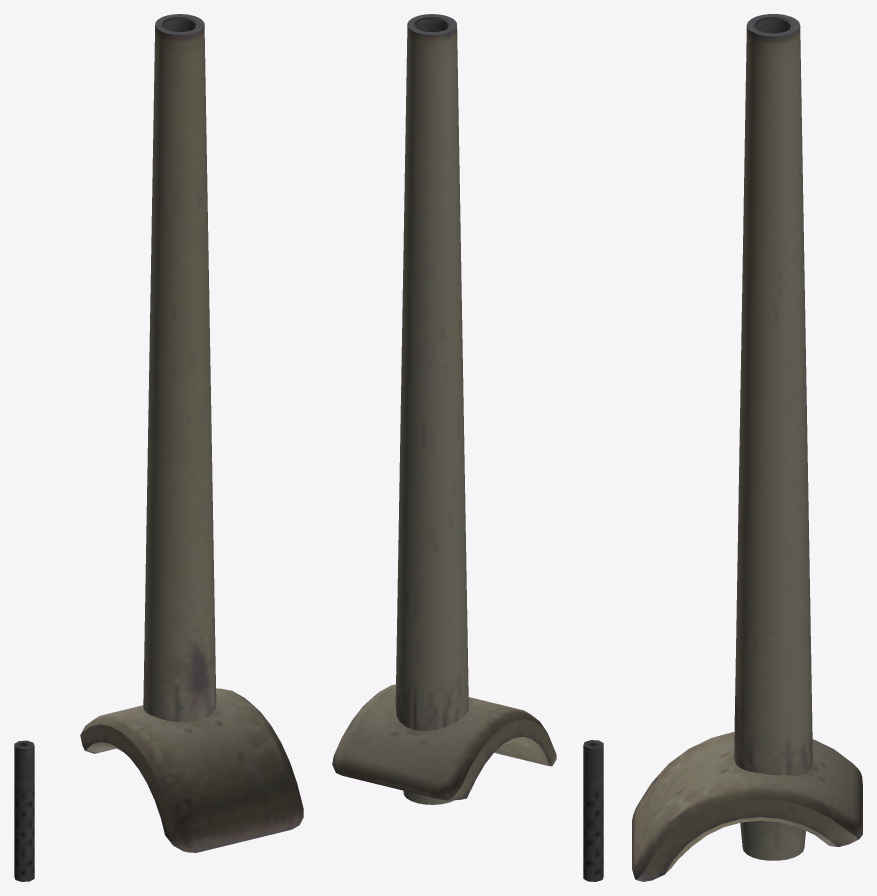
The model's file is Gun_01.glb.
3 renders of one model, left to right at view 1: azimuth 30°, elevation 25°; view 2: azimuth 150°, elevation 25°; view 3: azimuth 270°, elevation 25°, orthographic. The views are drawn at different scales.
Parts seen in each view (by area): view 1: set_0_group_0; view 2: set_0_group_0; view 3: set_0_group_0.
Part boxes in pixels (x1,y1,x2,y2): set_0_group_0: [14, 14, 303, 881]; set_0_group_0: [332, 14, 603, 881]; set_0_group_0: [632, 14, 862, 881].
Size of the model in its own units: 0.6121 by 2.04 by 0.4888.
Materials: 1 (1 with a texture image).
